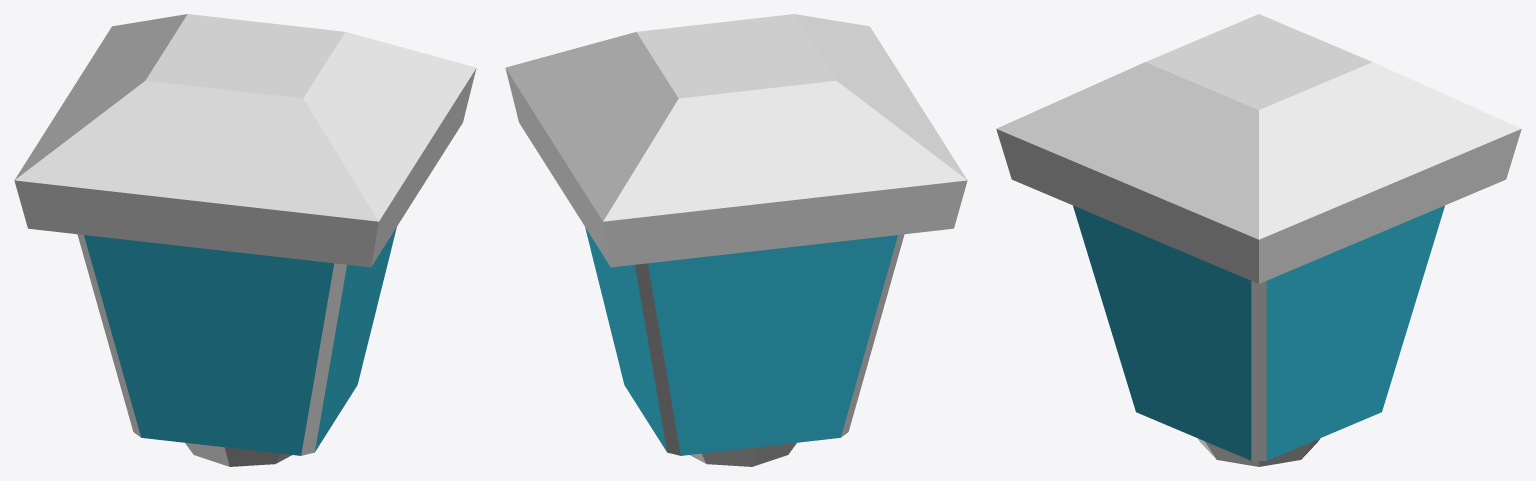
The model's file is LightPost.fbx.
3 renders of one model, left to right at view 1: azimuth 30°, elevation 25°; view 2: azimuth 150°, elevation 25°; view 3: azimuth 270°, elevation 25°, orthographic.
Parts seen in each view (by area): view 1: Cube; view 2: Cube; view 3: Cube.
Part boxes in pixels (bbox=[...]): Cube: bbox=[14, 14, 476, 466]; Cube: bbox=[505, 14, 967, 466]; Cube: bbox=[996, 14, 1521, 466].
Size of the model in its own units: 346 by 292 by 346.
